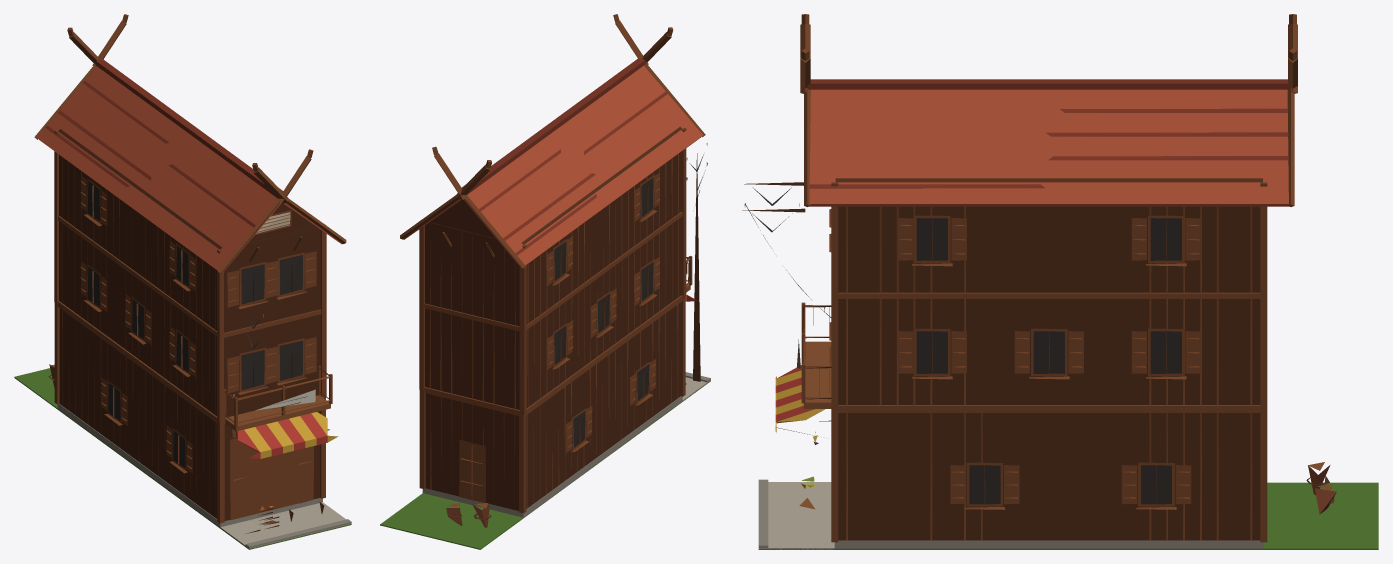
Rendered from bay2_one.glb.
3 renders of one model, left to right at view 1: azimuth 30°, elevation 25°; view 2: azimuth 150°, elevation 25°; view 3: azimuth 270°, elevation 25°, orthographic. The views are drawn at different scales.
Parts seen in each view (by area): view 1: body, windows; view 2: body, windows; view 3: body, windows.
Boxes of the visible parts, box(x1,y1,x2,y2) form: body: box(14, 14, 351, 549); windows: box(87, 181, 302, 467); body: box(380, 14, 710, 549); windows: box(554, 178, 653, 447); body: box(742, 14, 1378, 549); windows: box(813, 218, 1181, 504).
Bounding box in the file's own units: 5.02 × 13.86 × 16.4.
